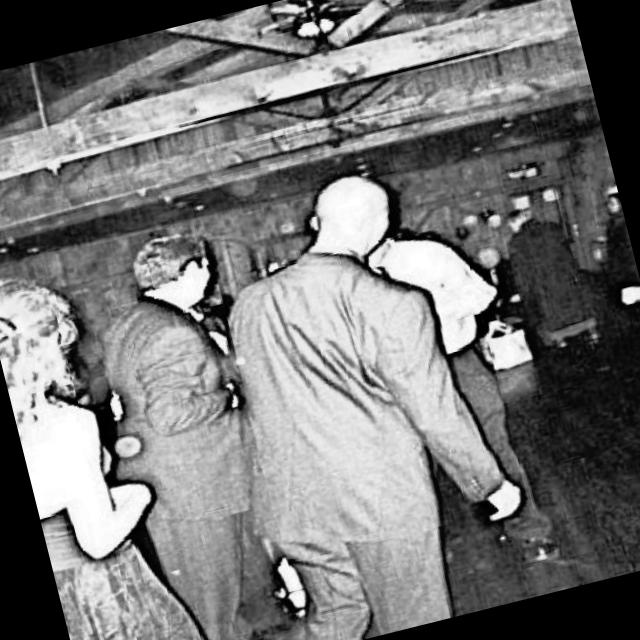Person: (183, 146, 546, 640), (75, 218, 325, 640), (0, 246, 227, 640)
